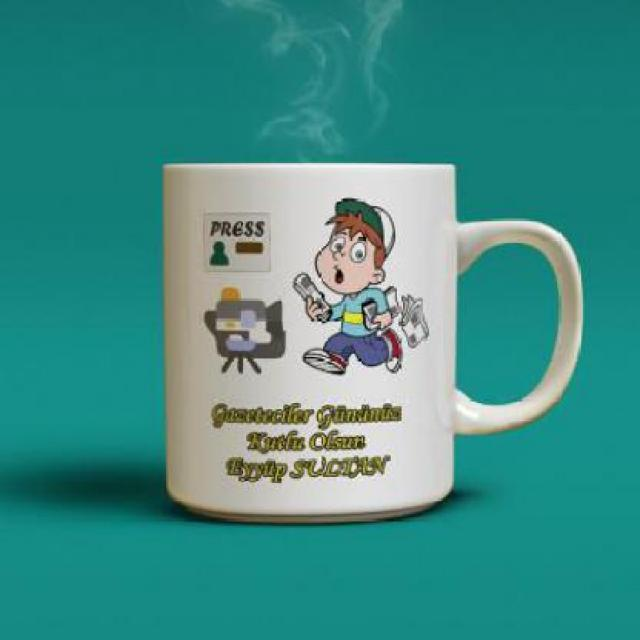taza: (162, 163, 586, 526)
